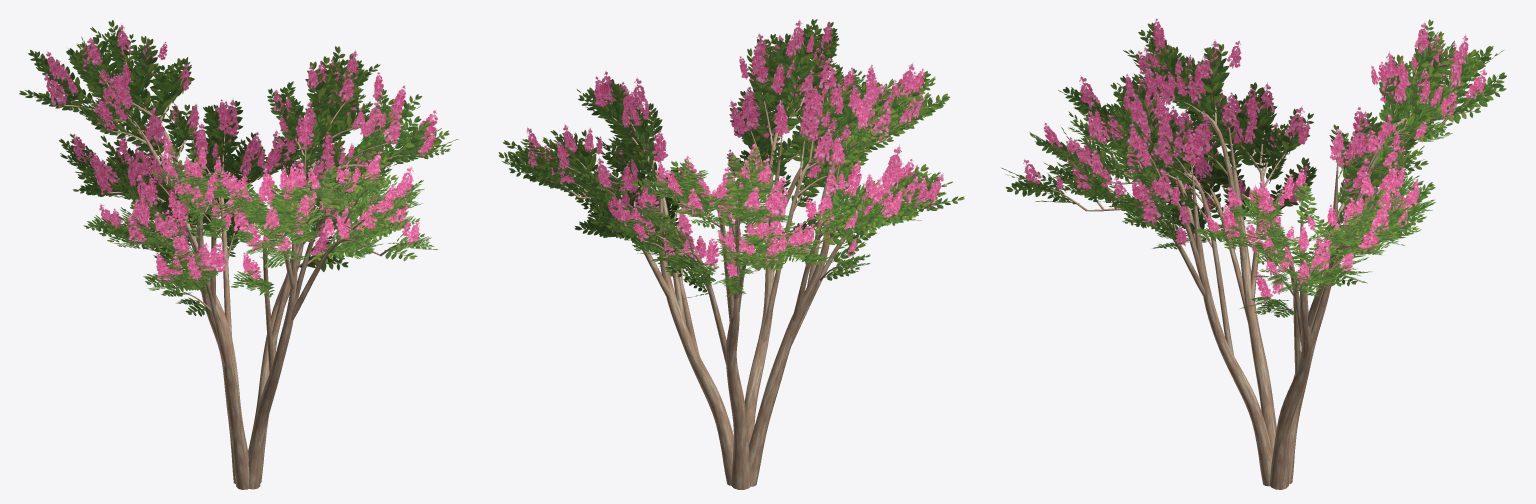
Rendered from sarusuberi.glb.
3 views of the same model, side by side, from view 1: azimuth 30°, elevation 25°; view 2: azimuth 150°, elevation 25°; view 3: azimuth 270°, elevation 25° (orthographic).
Visible parts, largest first — view 1: SaruLeaves, SaruFlowers, SaruBark; view 2: SaruLeaves, SaruFlowers, SaruBark; view 3: SaruLeaves, SaruFlowers, SaruBark.
Part boxes in pixels (x1,y1,x2,y2): SaruLeaves: (19, 20, 458, 316); SaruFlowers: (44, 24, 437, 288); SaruBark: (64, 59, 419, 489); SaruLeaves: (498, 19, 964, 298); SaruFlowers: (526, 19, 943, 278); SaruBark: (533, 92, 924, 489); SaruLeaves: (1001, 19, 1506, 317); SaruFlowers: (1023, 18, 1486, 300); SaruBark: (1040, 54, 1467, 489).
Bounding box in the file's own units: 3.87 × 4.29 × 4.83.
3 materials, 3 textured.
